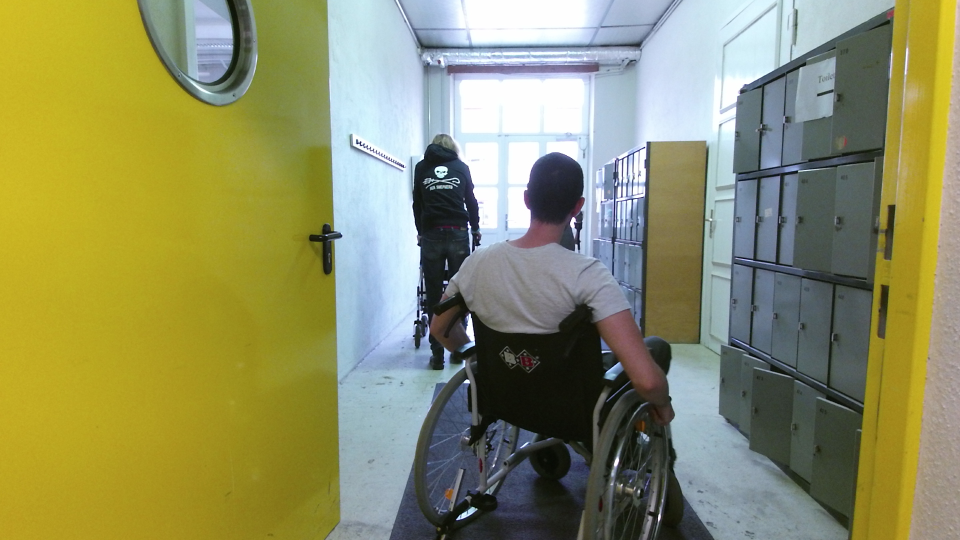wheelchair: (405, 150, 703, 540)
